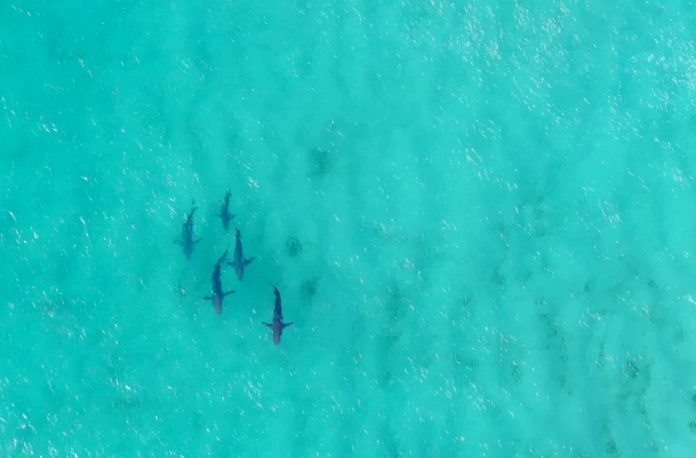shark: (160, 209, 217, 268), (198, 178, 255, 237), (227, 222, 276, 289), (190, 250, 239, 316), (256, 280, 304, 346)
